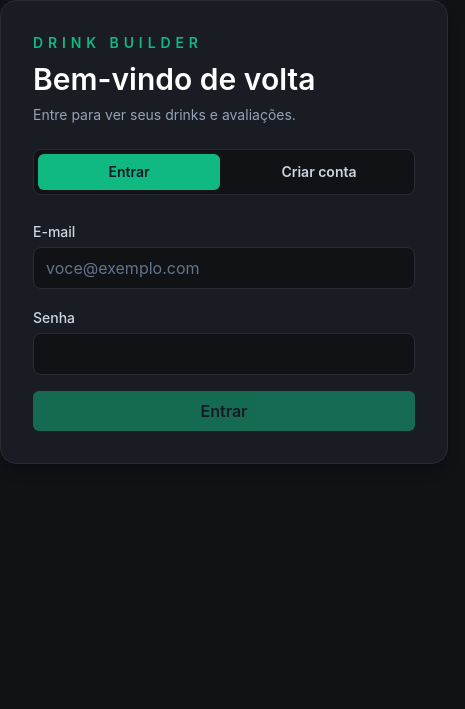
Scenario: AuthPage › erros de cadastro aparecem traduzidos
Click the tab "Criar conta": x=319, y=172 x1=228 y1=154 x2=410 y2=190
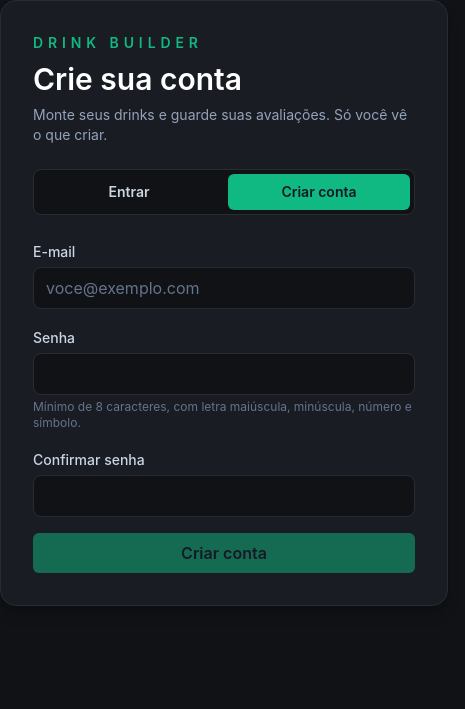
In the field labelled "E-mail": x=224, y=288 x1=33 y1=267 x2=415 y2=309, type "eu@exemplo.com"
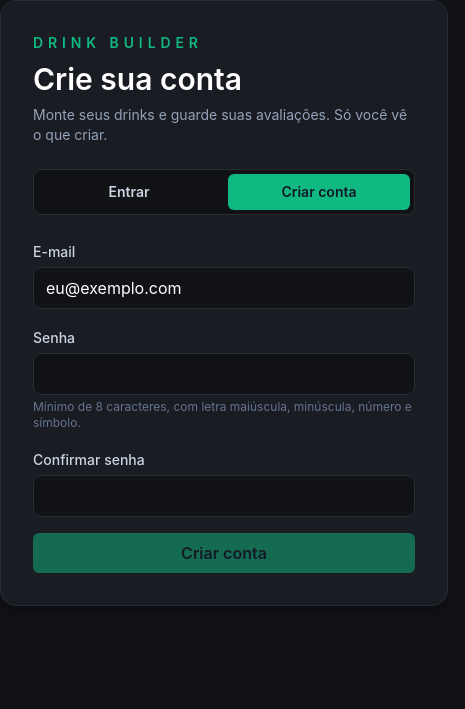
In the password field labelled "Senha": x=224, y=374 x1=33 y1=353 x2=415 y2=395, type "senha#123"
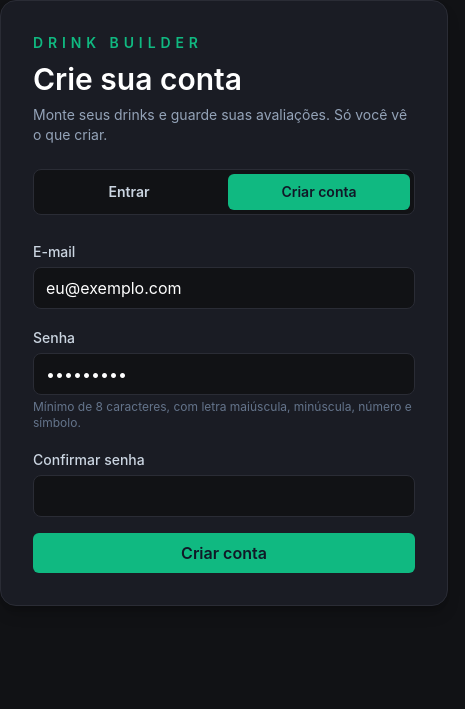
In the password field labelled "Confirmar senha": x=224, y=496 x1=33 y1=475 x2=415 y2=517, type "senha#123"
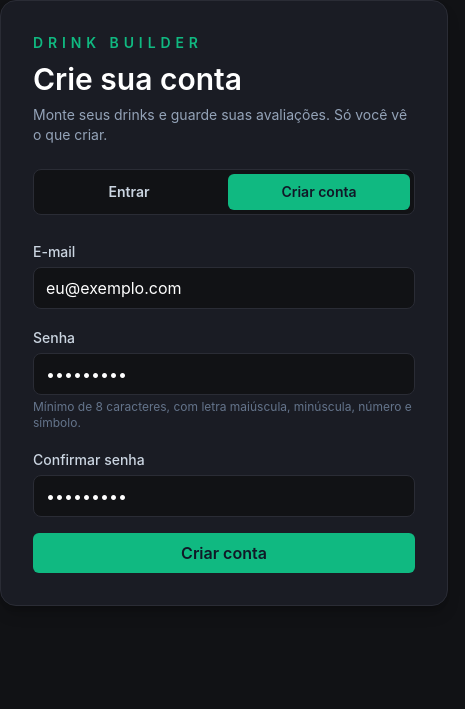
Click the button "Criar conta": x=224, y=553 x1=33 y1=533 x2=415 y2=573
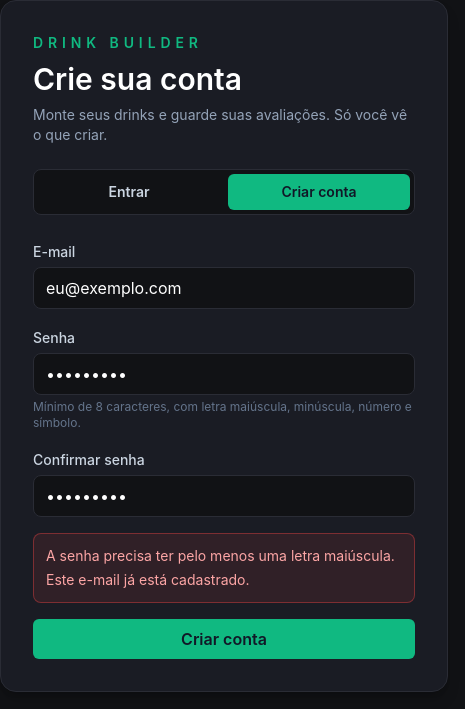
Expected: the list item "A senha precisa ter pelo menos uma letra maiúscula." is shown, x1=46 y1=546 x2=402 y2=566
Expected: the number of list items "Este e-mail já está cadastrado." is 1, x1=46 y1=571 x2=250 y2=588
